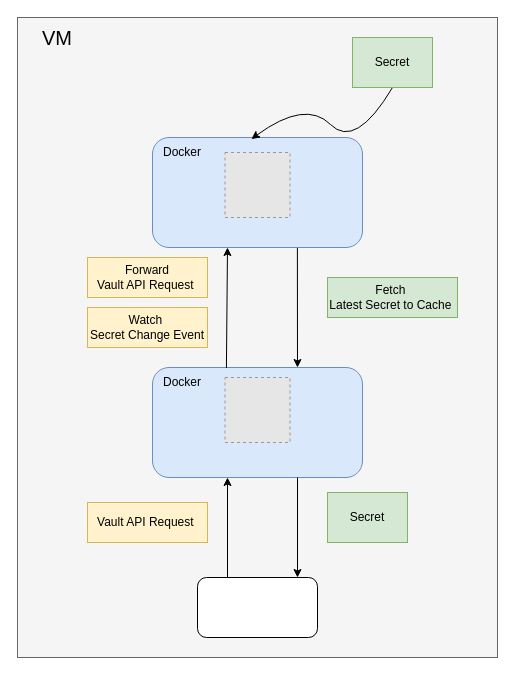
The diagram is 515 pixels wide and 675 high, and some of its shapes have lost their labels. Grey dashed boxes stand in for pictures. Each missing label, with the box of its shape:
Client: (196, 576, 318, 638)
Vault Enterprise Sever: (152, 136, 362, 248)
Vault Proxy: (152, 366, 362, 478)
